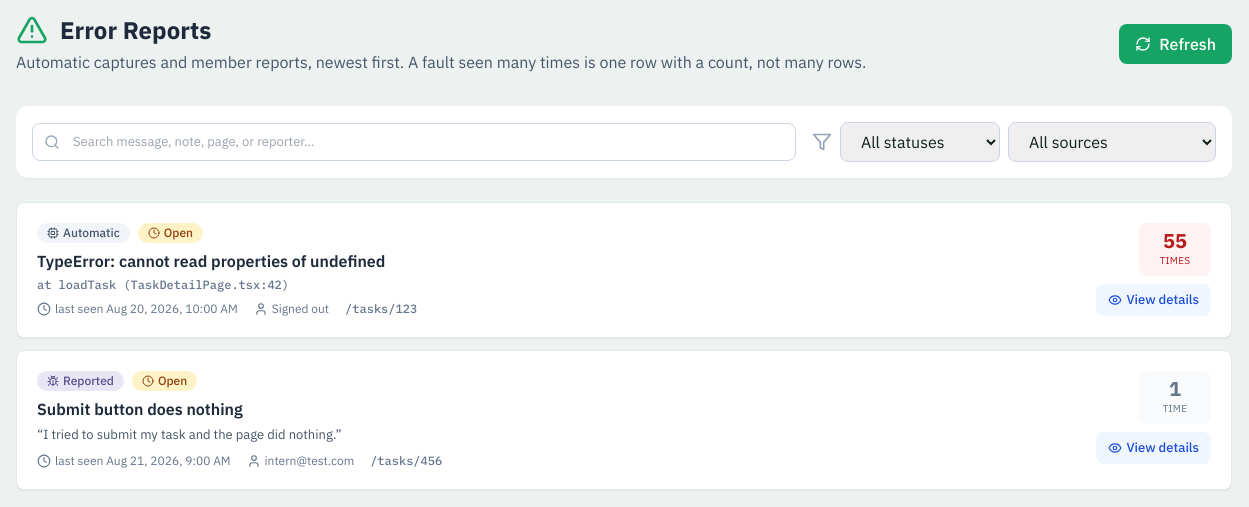
Test: ErrorReportsPage › filters by source on the client, with no extra fetch
Expected: the text "TypeError: cannot read properties of undefined" is shown, top-left (37, 251), bottom-right (385, 271)
Select "Reported by a person" in the dropdown named "Filter by source" at (1112, 142), box top-left (1008, 122), bottom-right (1216, 162)
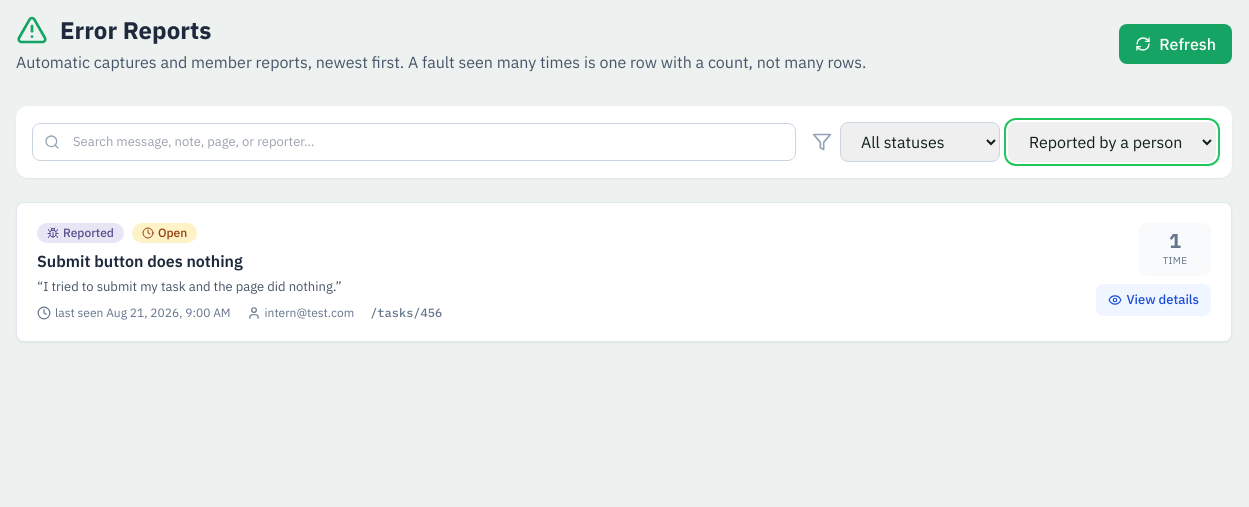
Expected: the text "Submit button does nothing" is shown, top-left (37, 251), bottom-right (243, 271)
Expected: the text "TypeError: cannot read properties of undefined" is gone
